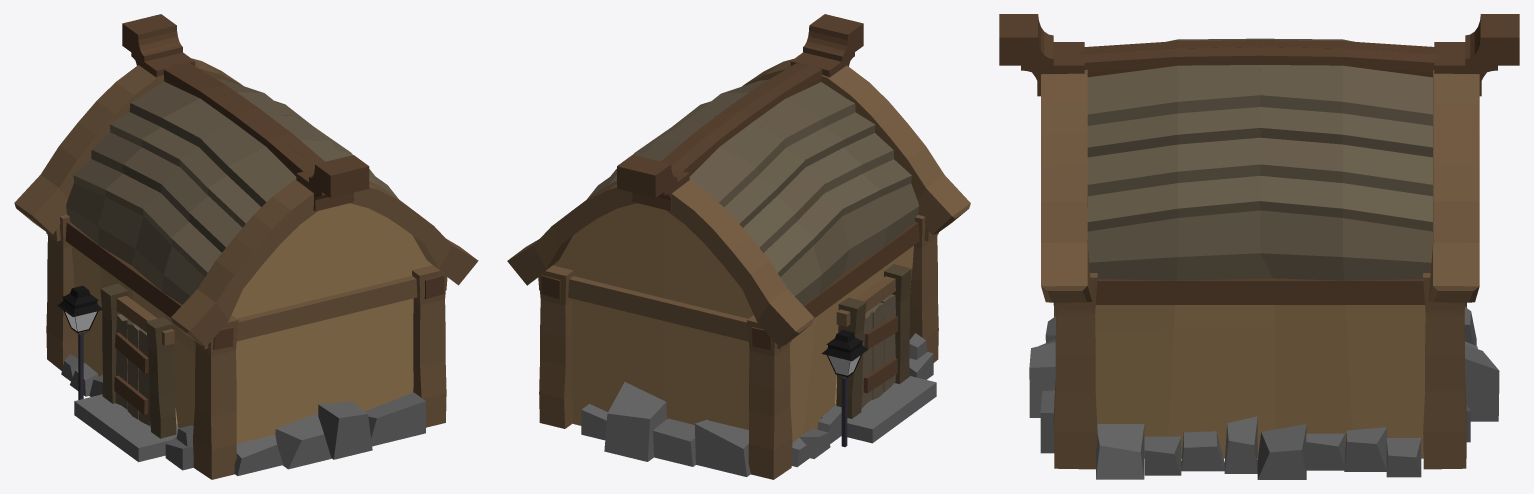
File: casa 2 com porta.fbx
3 renders of one model, left to right at view 1: azimuth 30°, elevation 25°; view 2: azimuth 150°, elevation 25°; view 3: azimuth 270°, elevation 25°, orthographic. The views are drawn at different scales.
Parts seen in each view (by area): view 1: casa.001, pedras.001, negocinho feio.001, madeira porta.001, porta.001, porta.009, negocinho feio.020; view 2: casa.001, pedras.001, negocinho feio.001, porta.001, madeira porta.001, porta.009, negocinho feio.020; view 3: casa.001, pedras.001, negocinho feio.001.
Part boxes in pixels (box(x1,y1,x2,y2)): casa.001: box(14, 58, 478, 479); pedras.001: box(61, 354, 425, 475); negocinho feio.001: box(122, 14, 369, 211); madeira porta.001: box(100, 283, 176, 438); porta.001: box(74, 296, 178, 462); porta.009: box(114, 314, 150, 425); negocinho feio.020: box(57, 285, 101, 316); casa.001: box(507, 59, 970, 479); pedras.001: box(581, 333, 933, 476); negocinho feio.001: box(617, 14, 863, 211); porta.001: box(821, 276, 936, 443); madeira porta.001: box(836, 264, 911, 418); porta.009: box(861, 294, 898, 408); negocinho feio.020: box(821, 330, 868, 361); casa.001: box(1041, 38, 1479, 469); pedras.001: box(1029, 307, 1499, 479); negocinho feio.001: box(999, 14, 1519, 96).
Bounding box in the file's own units: 3673 × 3502 × 4441.
